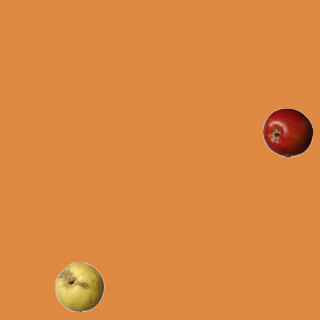Apple Braeburn: (262, 107, 312, 157)
Apple Golden 1: (54, 261, 104, 311)
